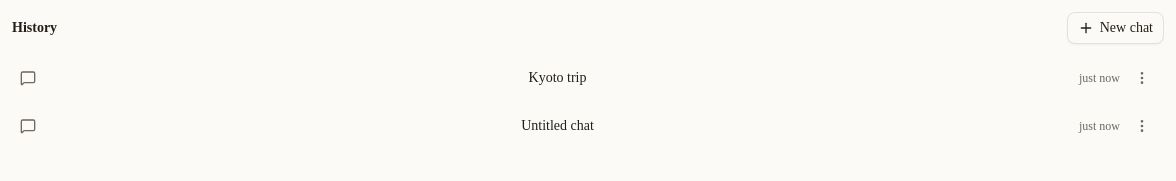
Test: ChatHistory › renames a conversation via the kebab menu
The image size is (1176, 181).
expect the text "Kyoto trip" is shown: met, box [528,70,586,85]
Click the 1st button named "Conversation actions".
click(1142, 78)  # box [1128,64,1156,92]
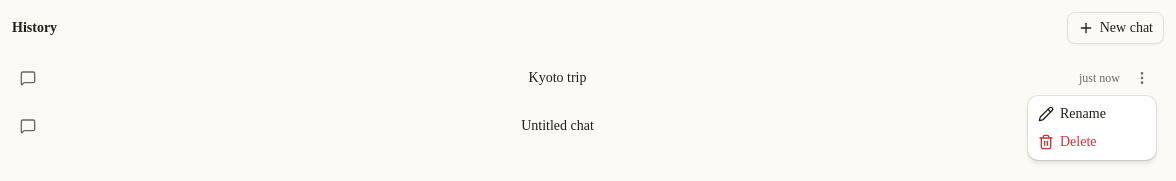
Click the menu item "Rename".
click(1072, 114)  # box [1038,106,1106,122]
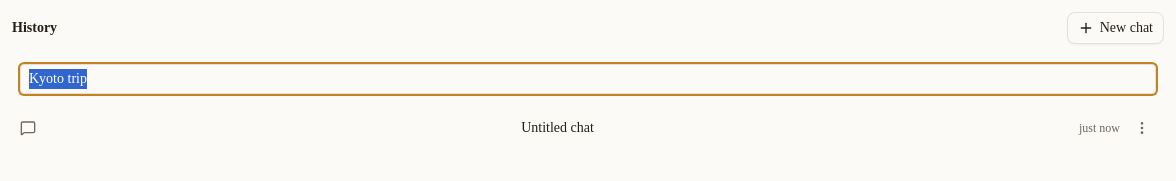
Replace the text in the field named "Conversation name" with "Kyoto 2026" at (588, 79), box [20,64,1156,94]
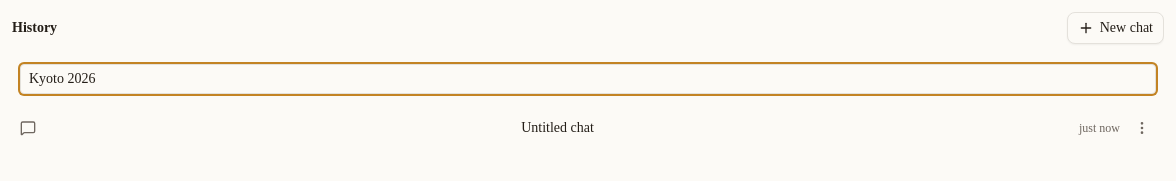
Press Enter in the field named "Conversation name", box [20,64,1156,94]
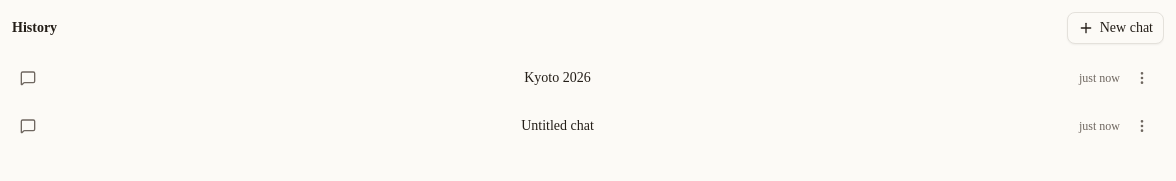
expect the text "Kyoto 2026" is shown: met, box [524,70,591,85]
